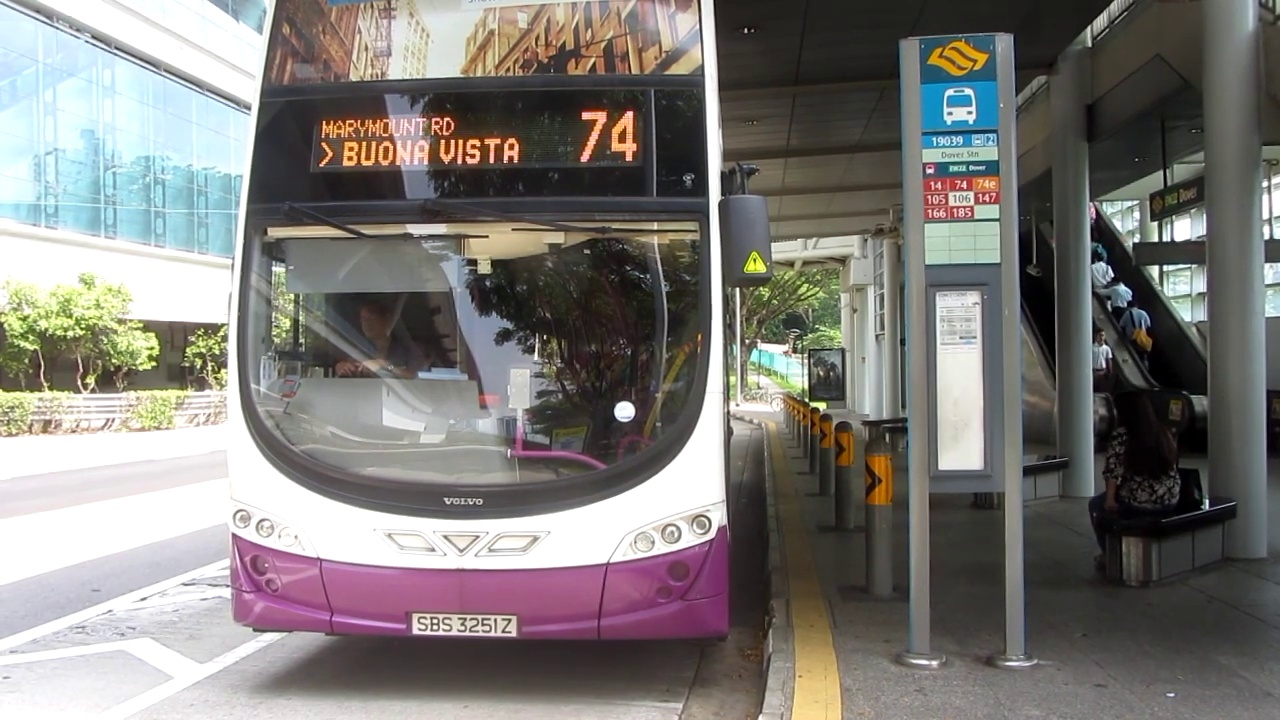bus panel: (307, 107, 647, 175)
